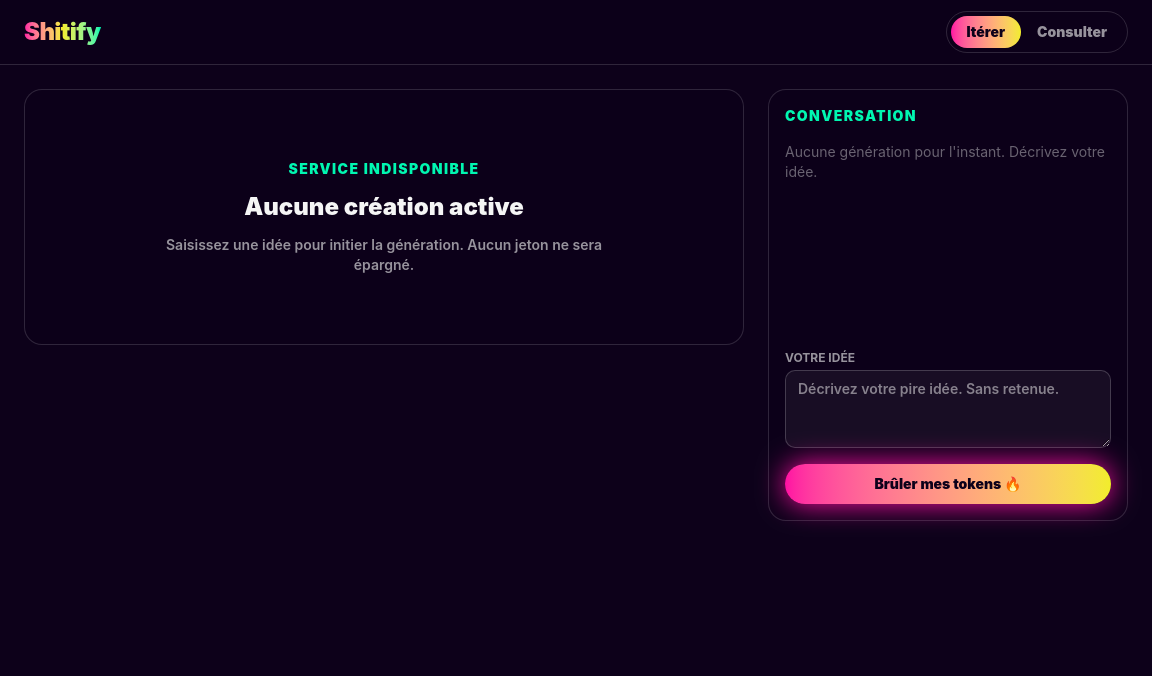
CreationWorkspace — postures itérer / consulter › « Consulter » affiche le prototype seul, sans conversation
Type "Une plateforme de transport pour oiseaux." into the text box labelled "Votre idée". click: coordinates (948, 409)
box: [785,370,1111,448]
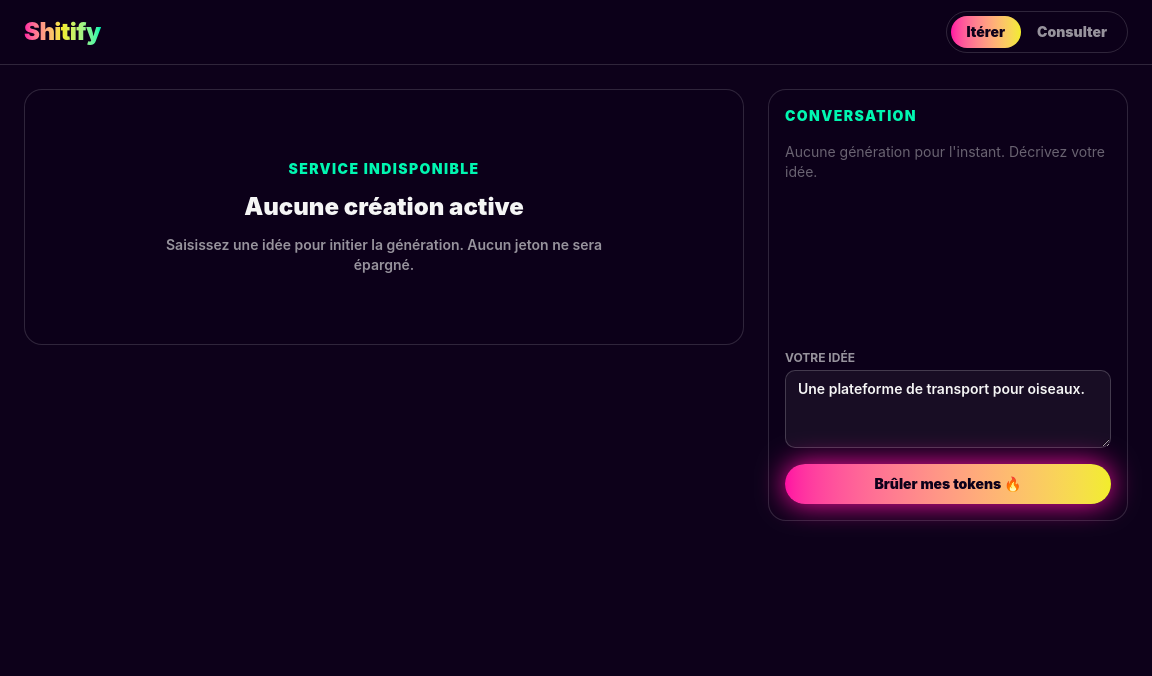
Submit the form "Votre idée Brûler mes tokens 🔥", box [785,350,1111,504]
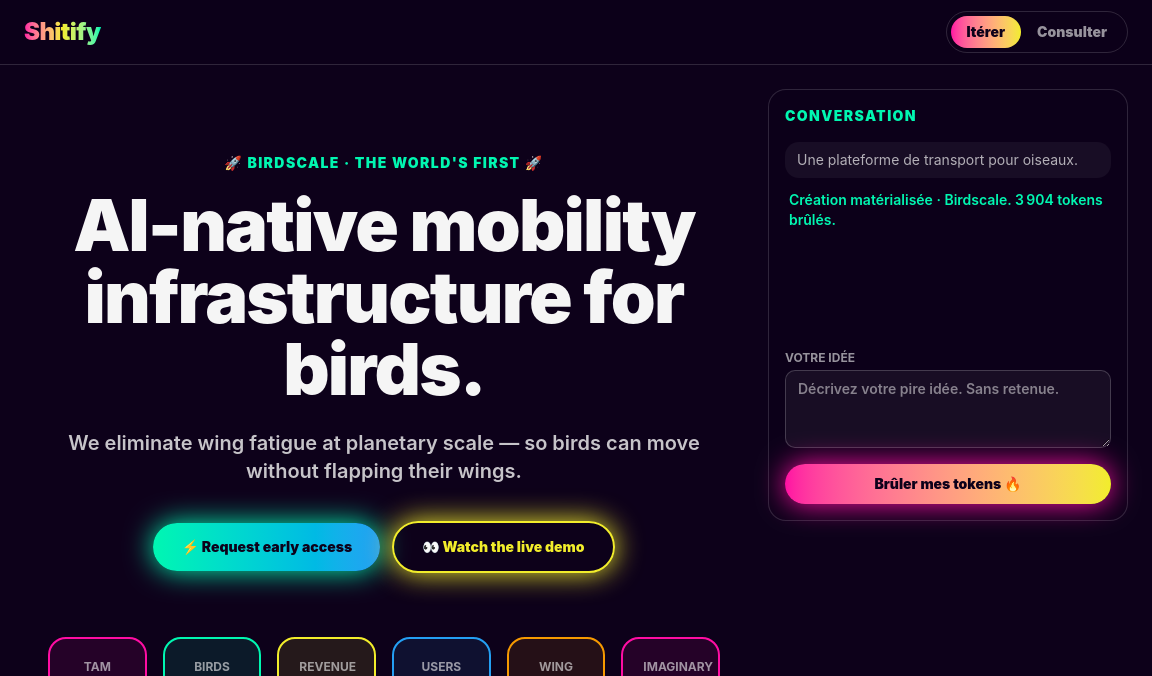
Click the button "Consulter". click: coordinates (1072, 32)
box: [1021,16,1123,48]
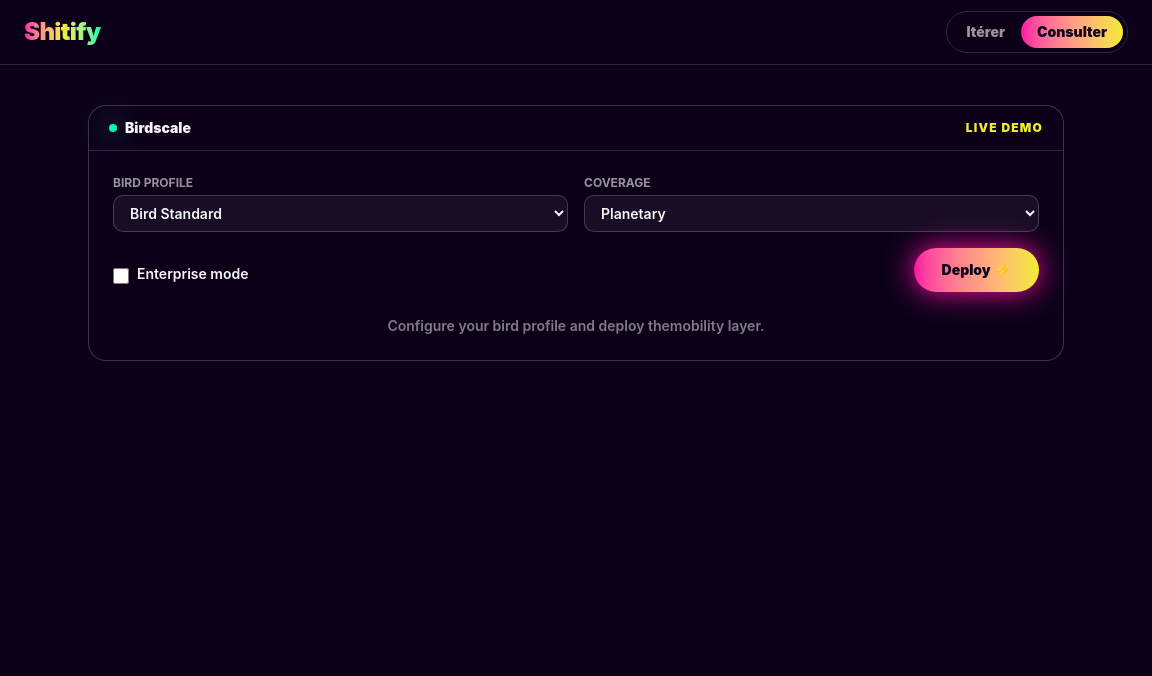
Check: the element named "Prototype" is shown, box [64,65,1088,401]
Check: the button "Deploy ⚡" is shown, box [914,248,1039,292]
Check: the heading labelled "Conversation" is gone
